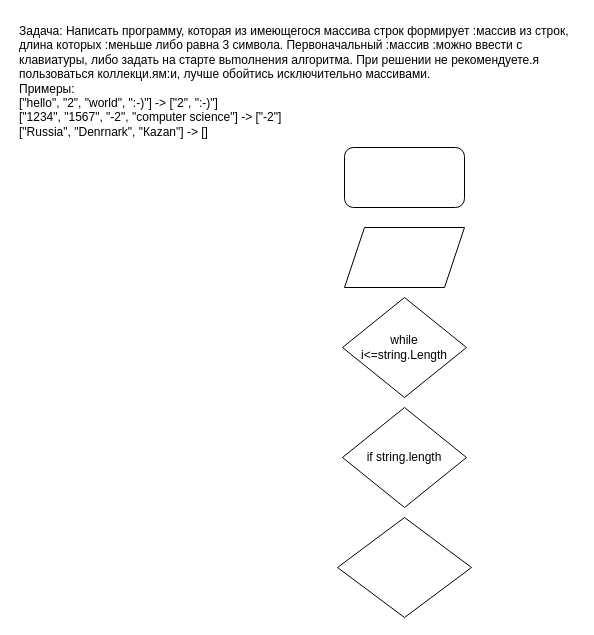
Some shapes in this 594 by 635 pixel diagram are drawn without their labels. Each missing label, with the centre of its shape:
"Start" belongs at point 404,177.
"stringinput={}" belongs at point 404,257.
